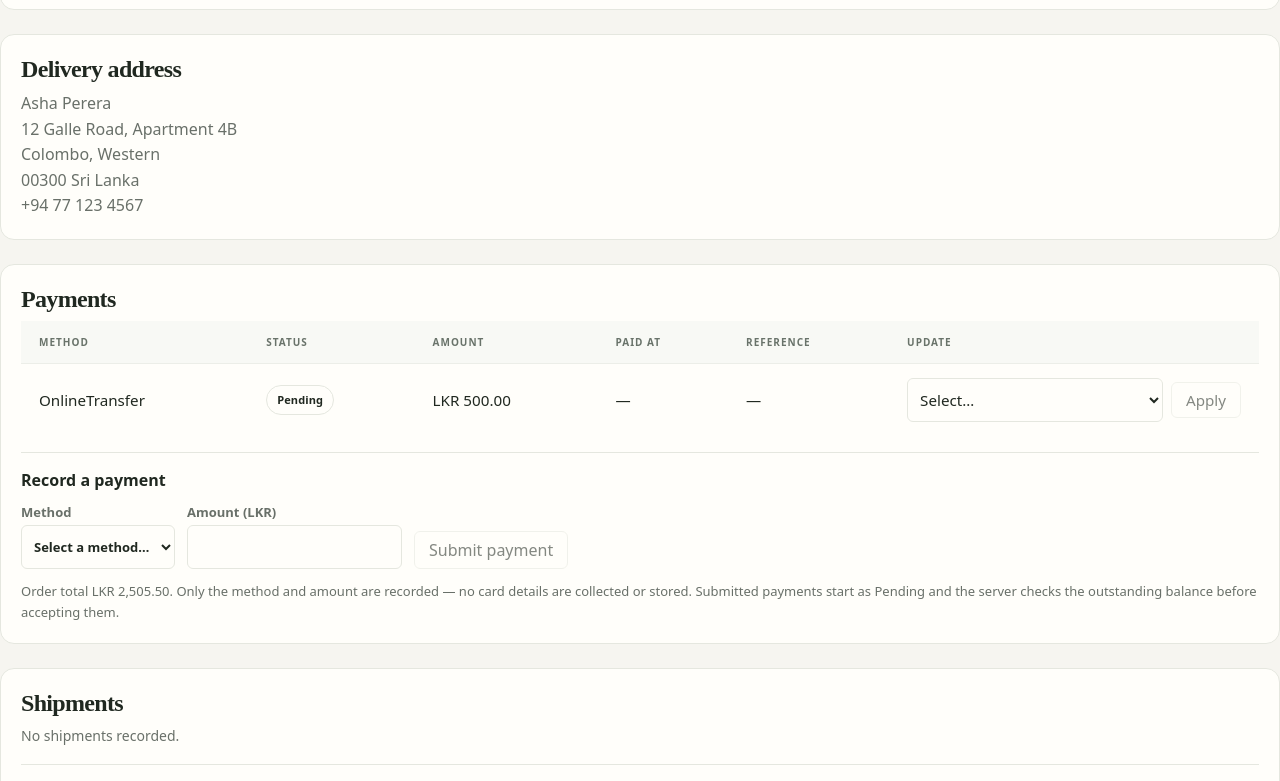
Test: OrderDetailPage › surfaces a permission error when the backend rejects a payment update
(page scrolled)
Step 1. Select "Completed" in the dropdown named "Update OnlineTransfer payment" → (1035, 400), box [907,378,1163,422]
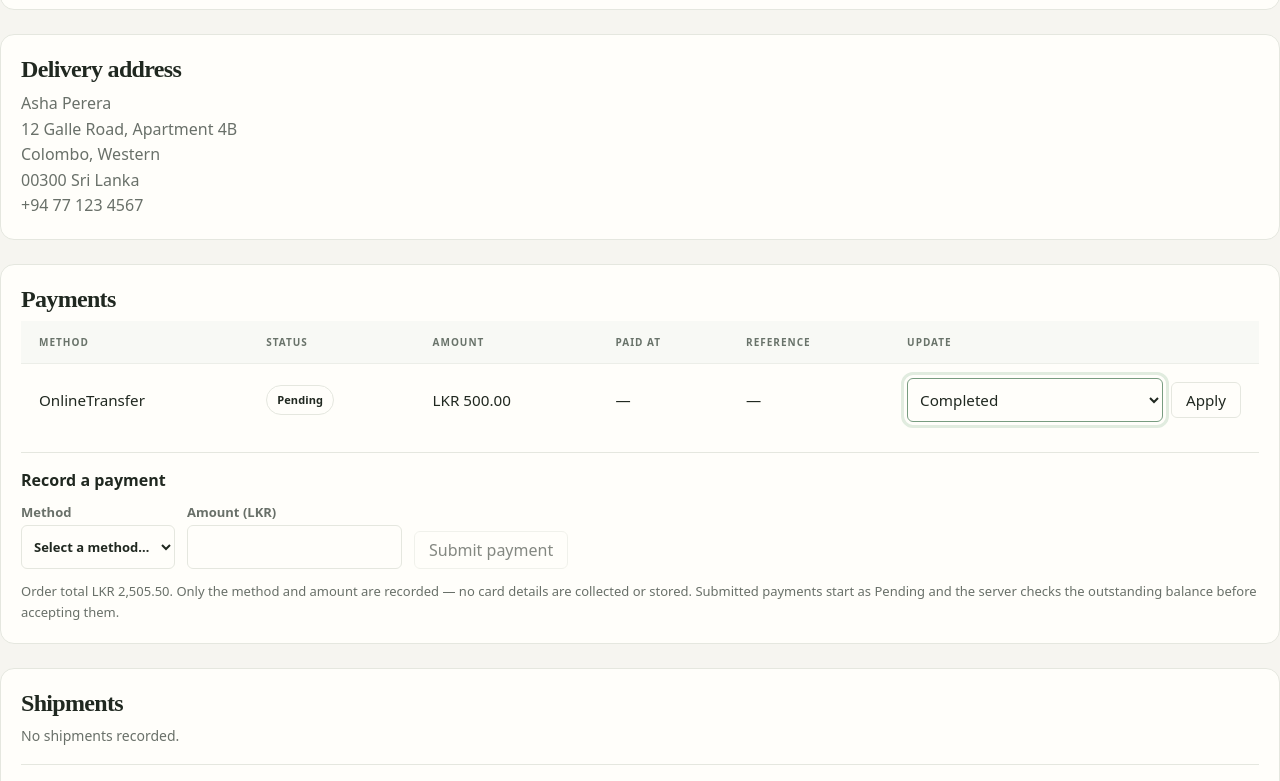
Step 2. Click the button "Apply" → (1206, 400), box [1171,382,1241,418]
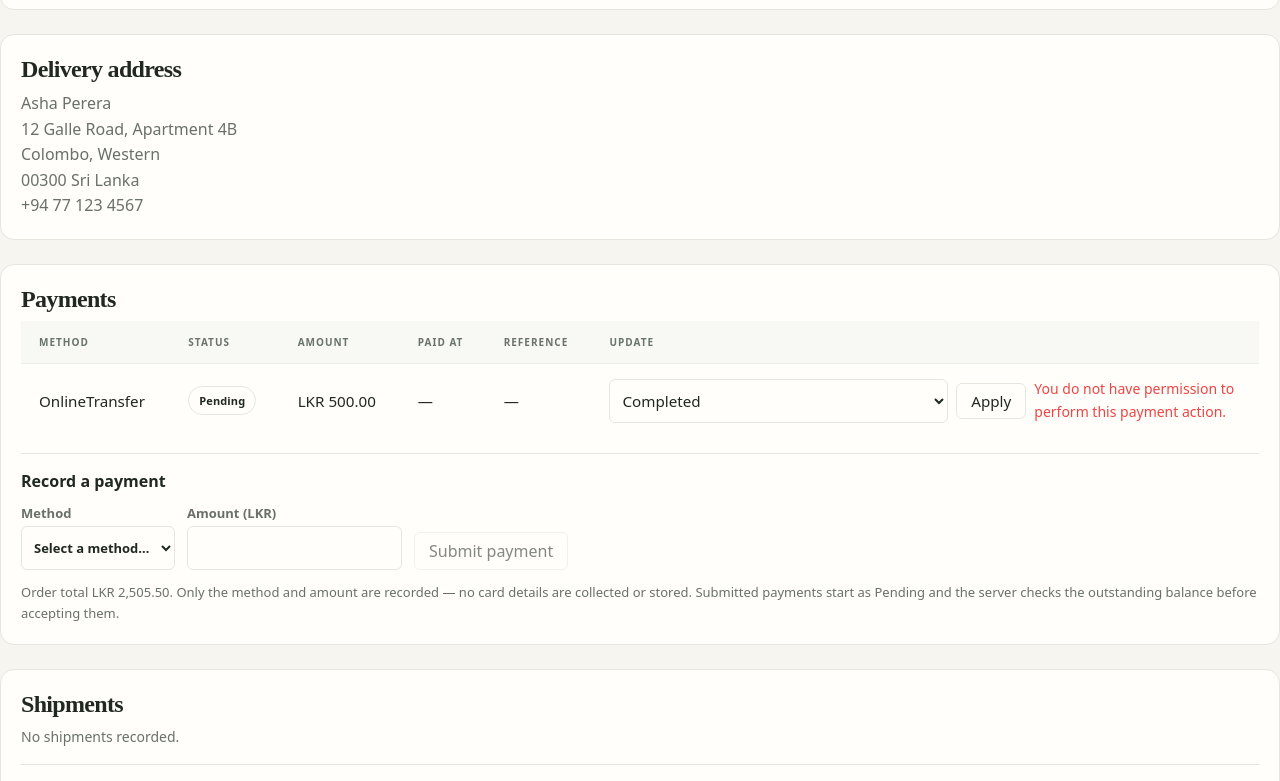
Result: the text "You do not have permission to perform this payment action." is shown at [1034,378,1241,423]
